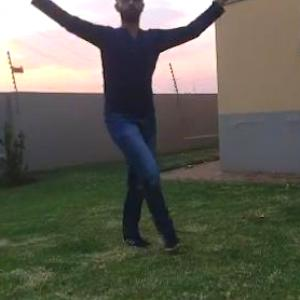takeoff: (11, 0, 245, 258)
